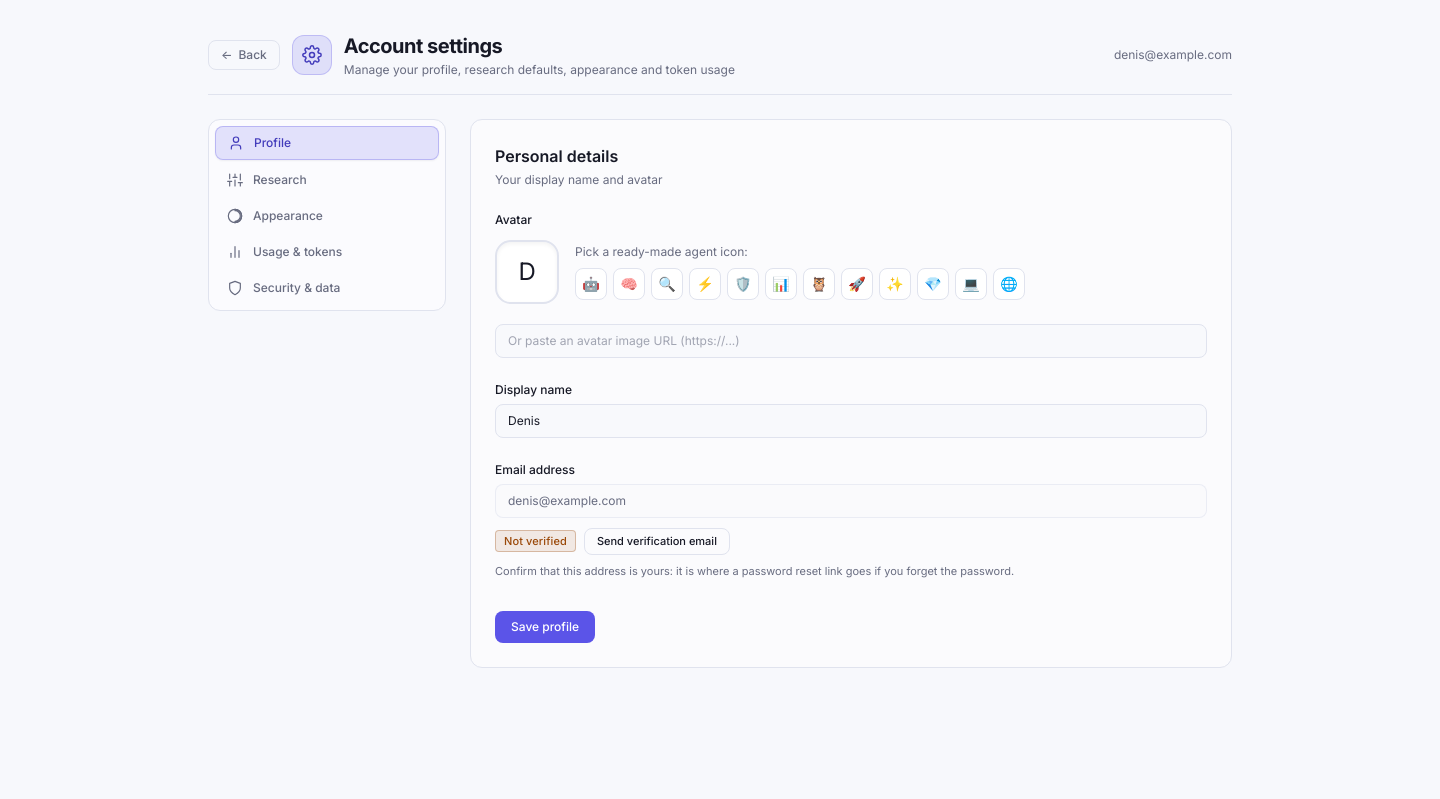
SettingsView › shows 'current password is incorrect' for a 401 instead of a raw error
The image size is (1440, 799).
Click the button "Security & data".
click(327, 288)  # box left=215, top=272, right=439, bottom=304
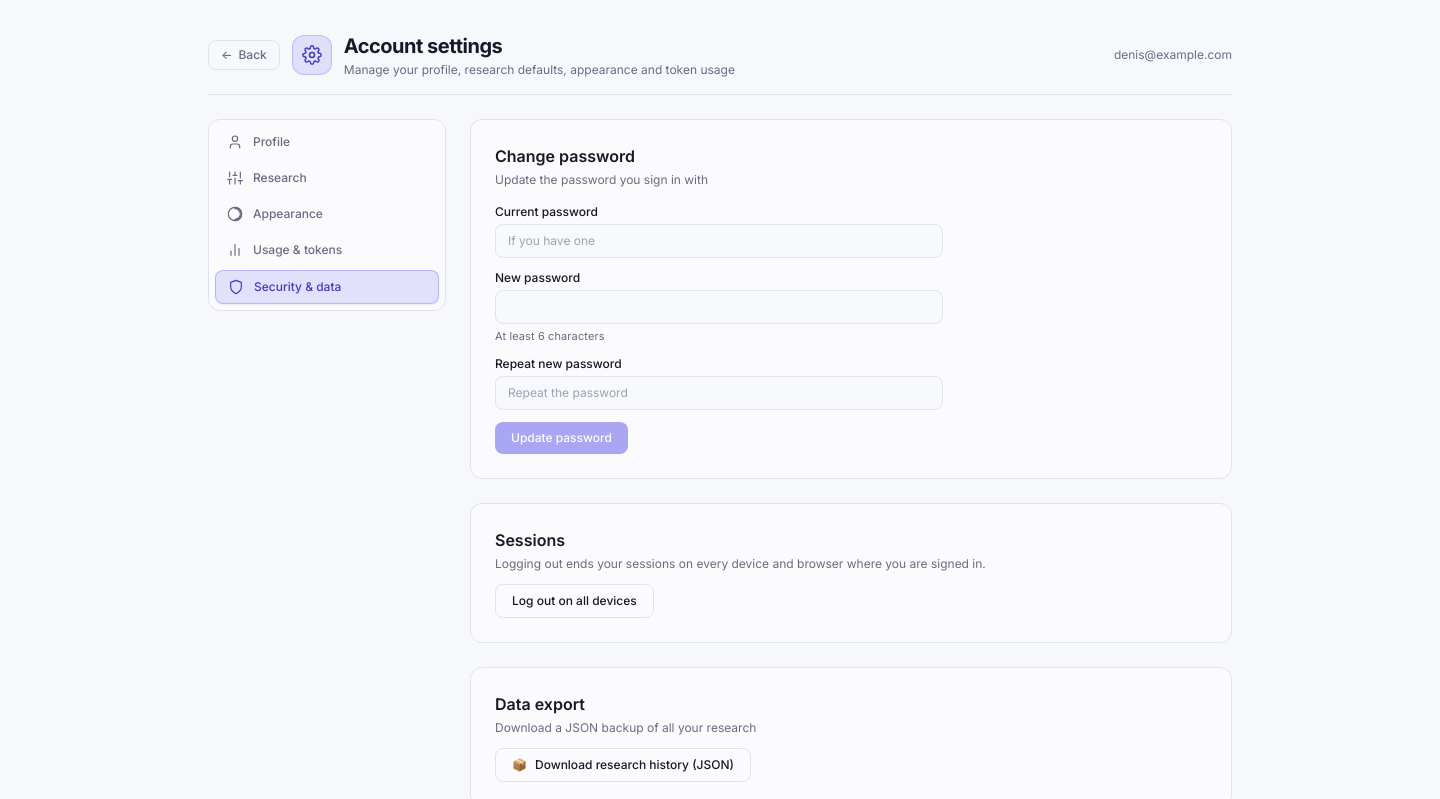
Type "wrong-old" into the password field labelled "Current password".
click(719, 241); type("wrong-old")  # box left=495, top=224, right=943, bottom=258
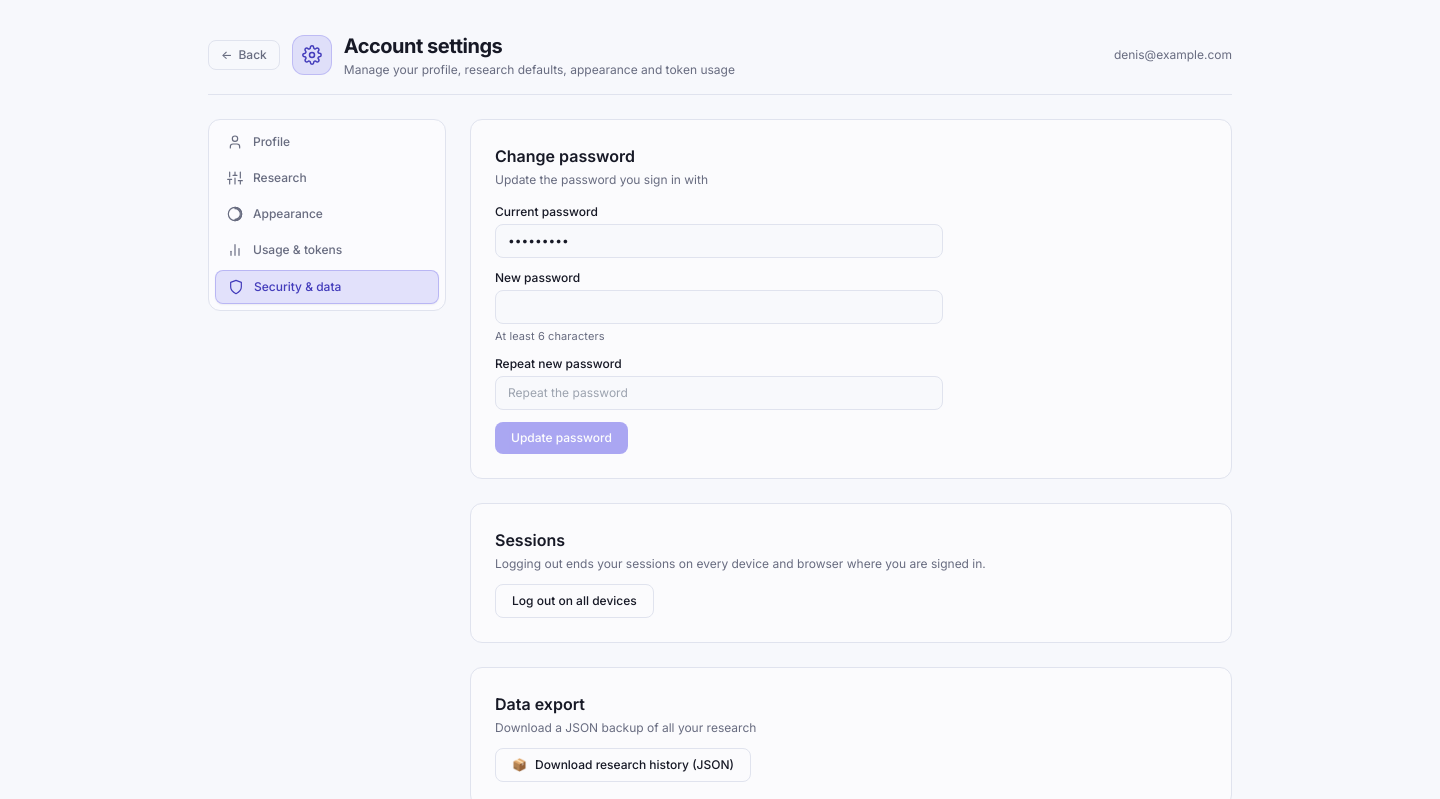
Type "new-password" into the password field labelled "New password".
click(719, 307); type("new-password")  # box left=495, top=290, right=943, bottom=324
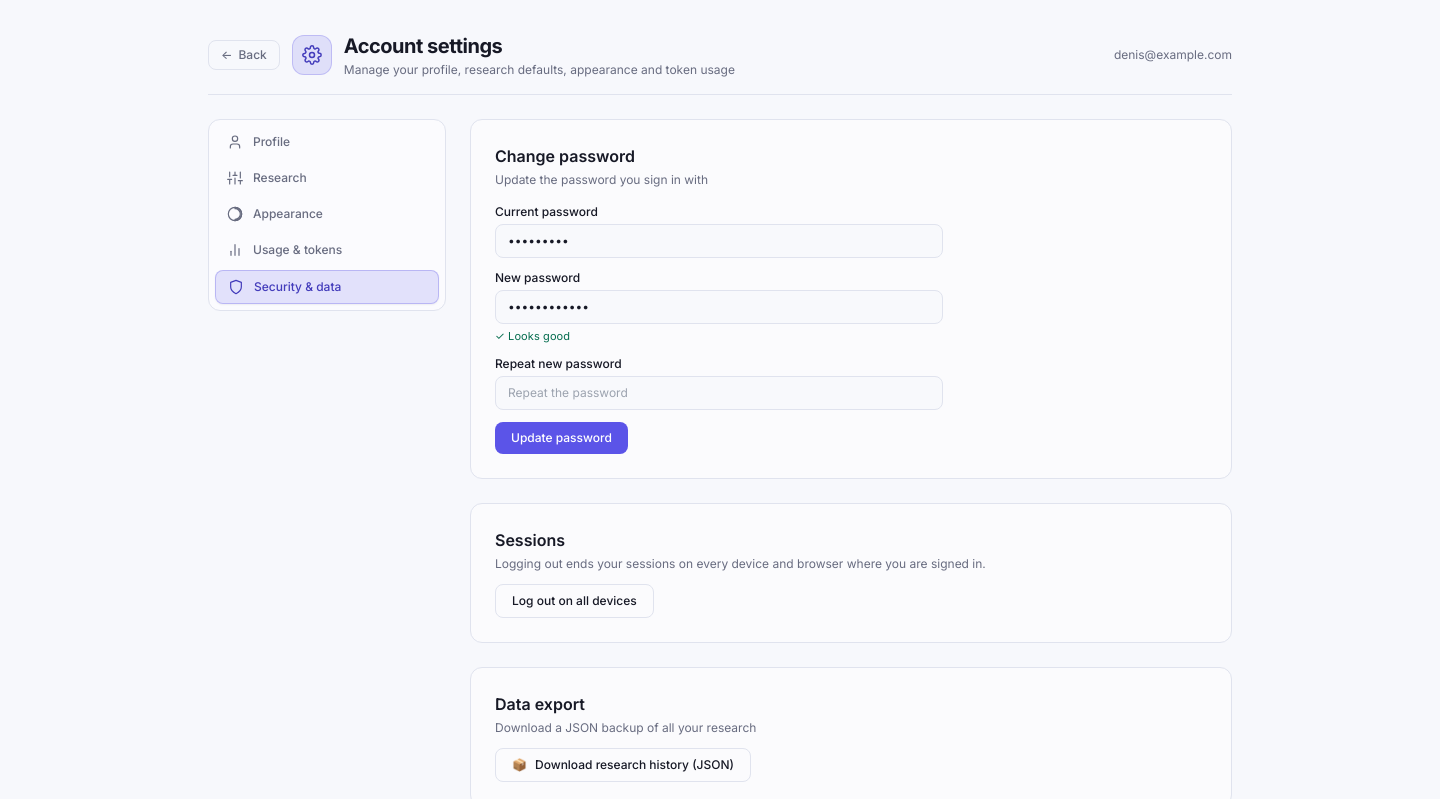
Type "new-password" into the password field labelled "Repeat new password".
click(719, 393); type("new-password")  # box left=495, top=376, right=943, bottom=410
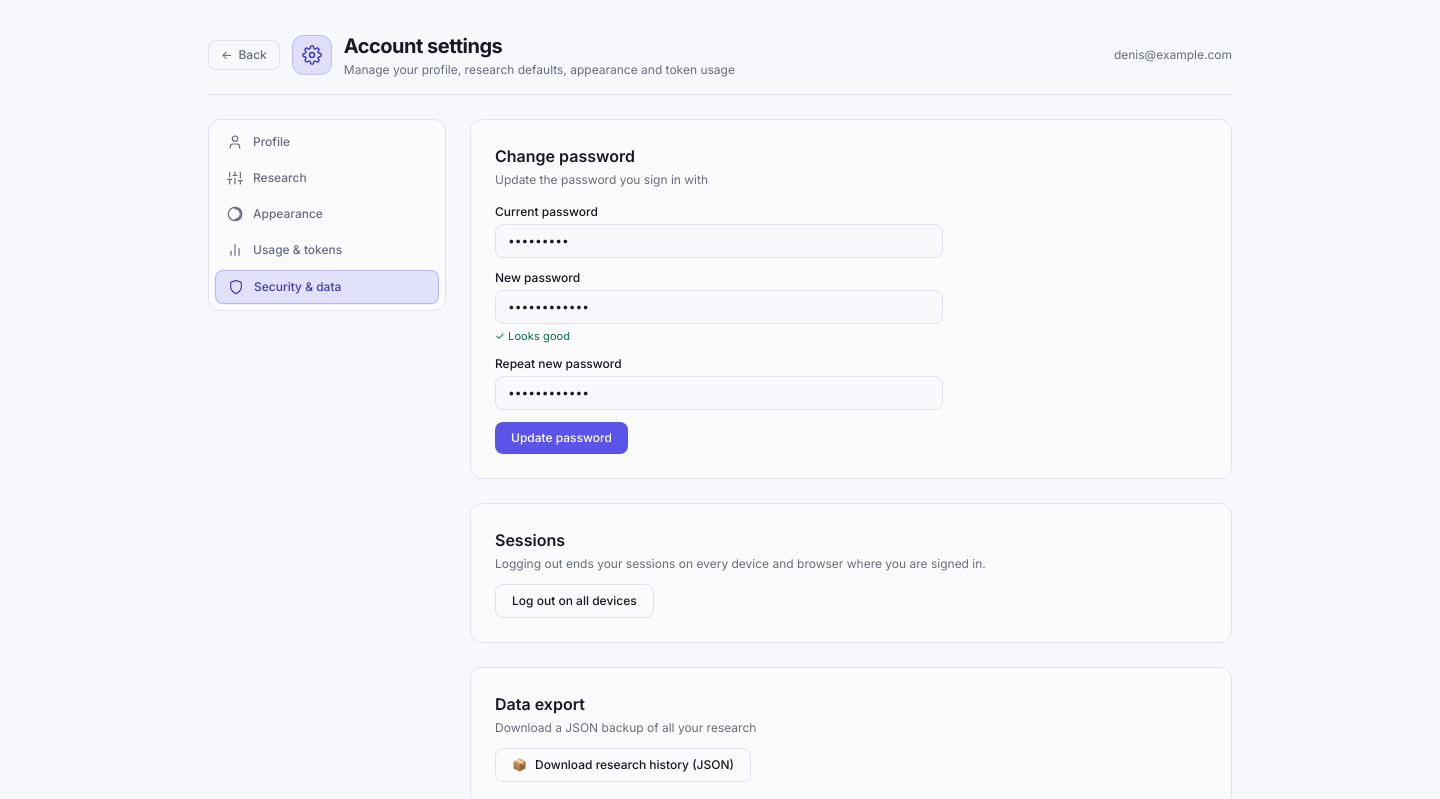
Click the button "Update password".
click(561, 438)  # box left=495, top=422, right=628, bottom=454
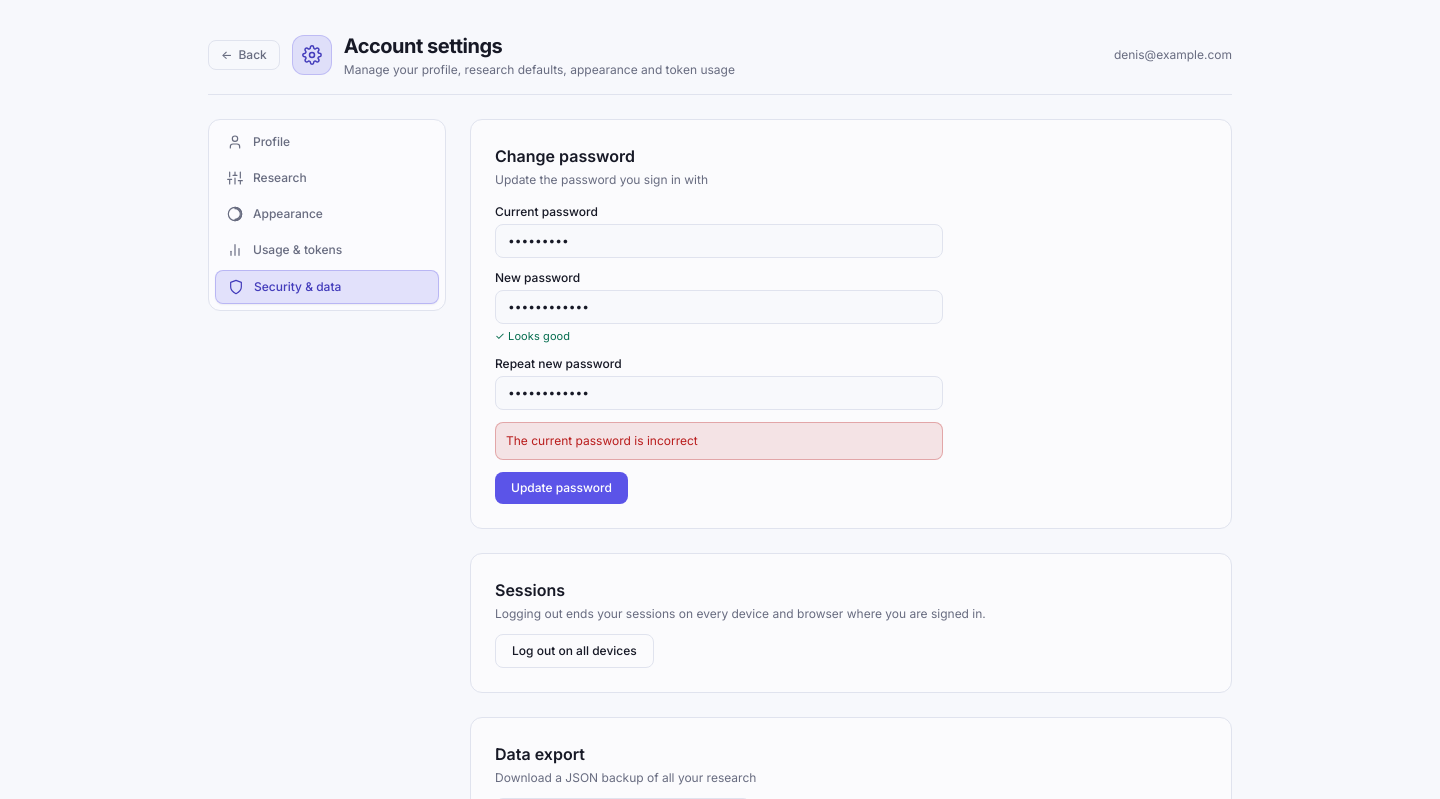
Now the text "The current password is incorrect" is shown, box left=495, top=422, right=943, bottom=460
